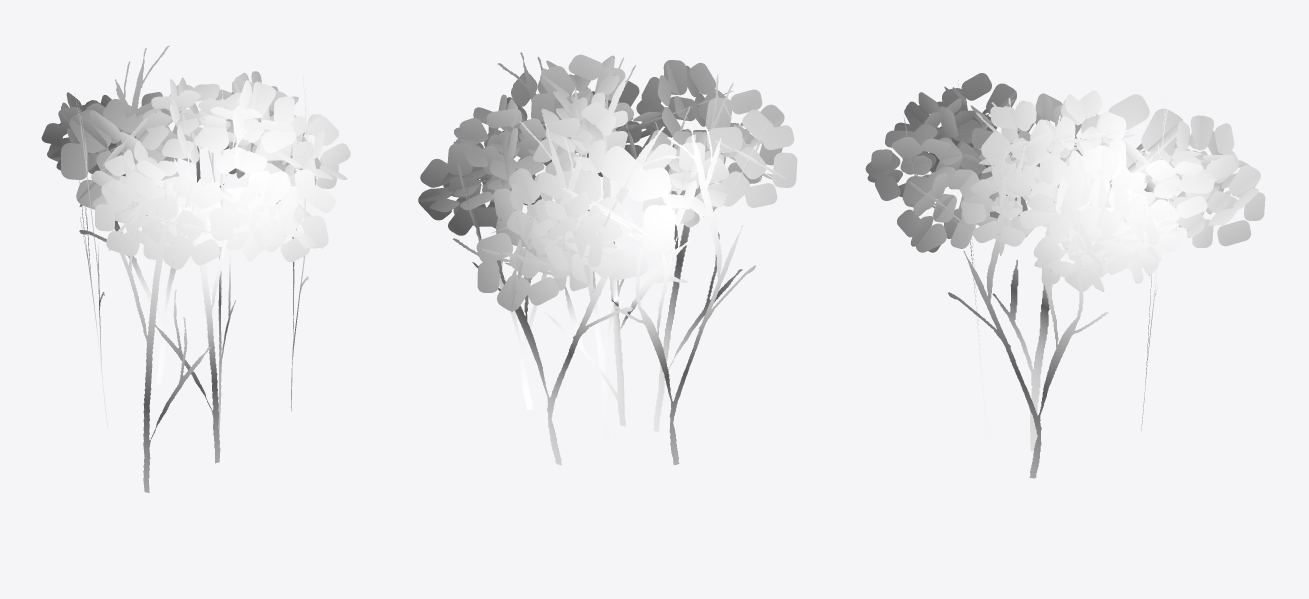
File: StylisedBush1.fbx
3 views of the same model, side by side, from view 1: azimuth 30°, elevation 25°; view 2: azimuth 150°, elevation 25°; view 3: azimuth 270°, elevation 25° (orthographic). The views are drawn at different scales.
Visible parts, largest first — view 1: Bush1; view 2: Bush1; view 3: Bush1.
Boxes of the visible parts, x1,y1,x2,y2 form: Bush1: (41,45,350,492); Bush1: (418,52,797,465); Bush1: (865,73,1265,478).
Bounding box in the file's own units: 249 × 358 × 296.
